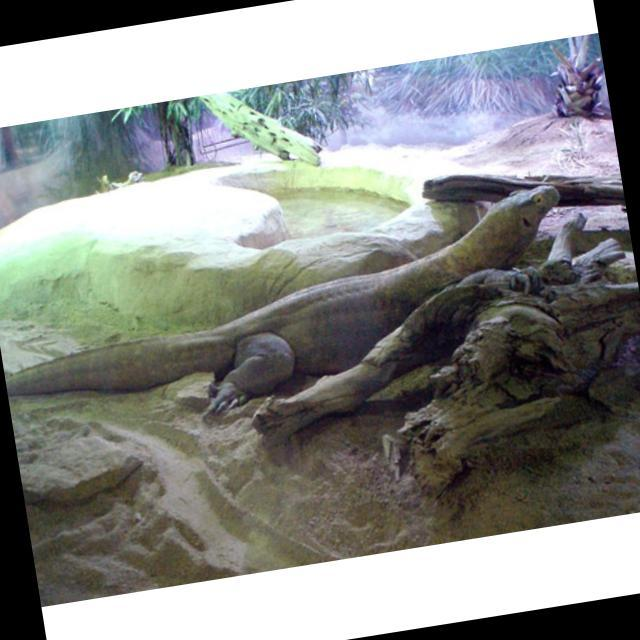KomodoDragon: (0, 175, 591, 453)
